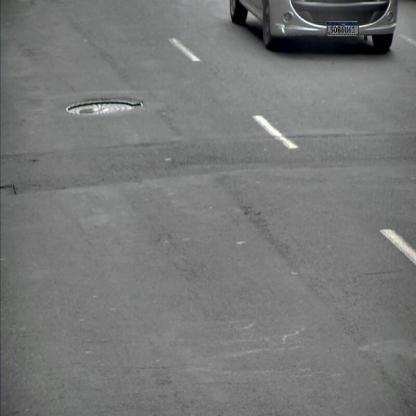PlacaM: (327, 22, 359, 35)
